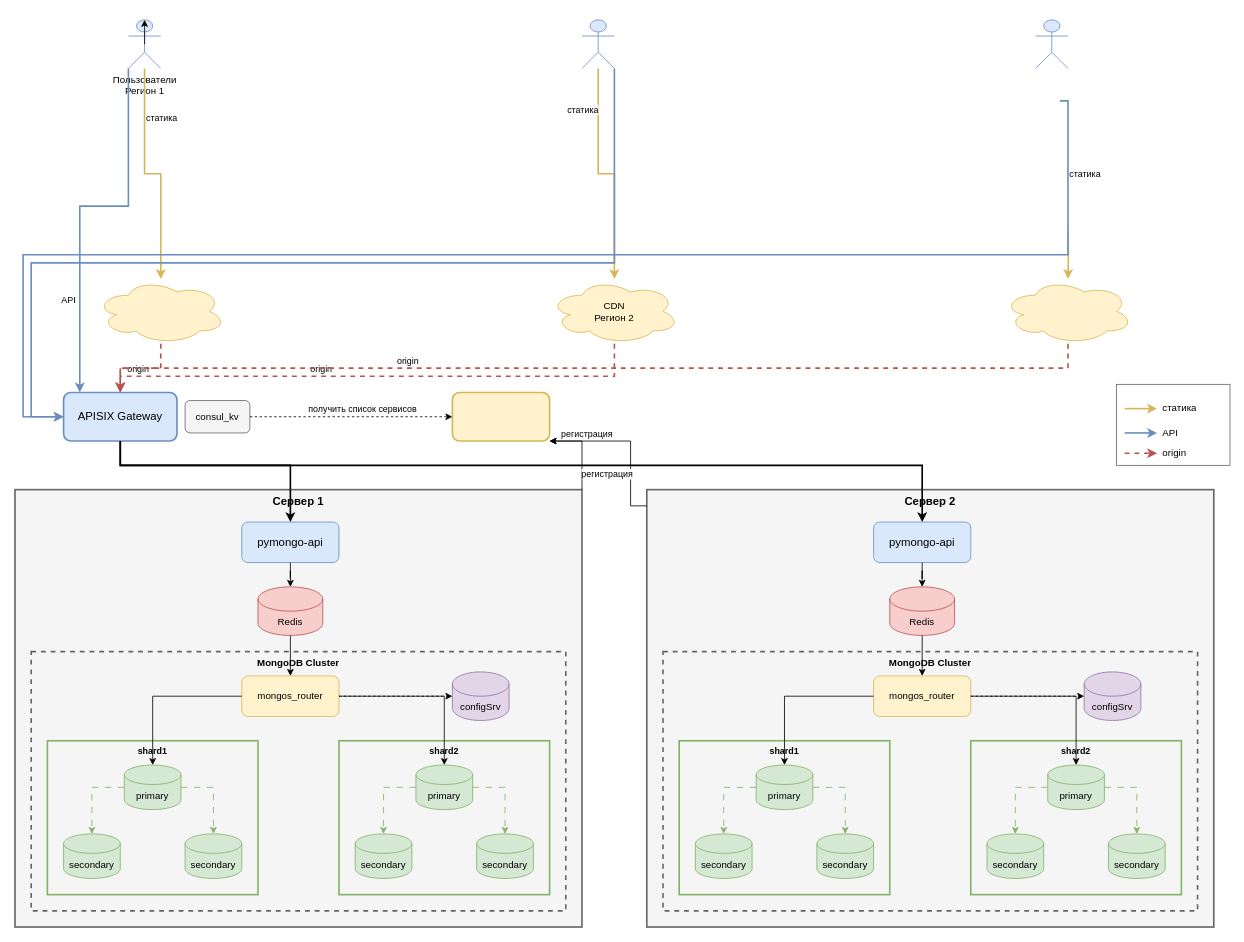
Some shapes in this 1244 by 942 pixel diagram are drawn without their labels. Here are the shapes that lost their labels. From the top down, the box of each, then its label:
(581, 19, 614, 68): Пользователи Регион 2
(1035, 19, 1068, 68): Пользователи Регион 3
(95, 278, 226, 344): CDN Регион 1
(1002, 278, 1133, 344): CDN Регион 3
(451, 391, 550, 441): Consul
(1116, 384, 1230, 465): Легенда
